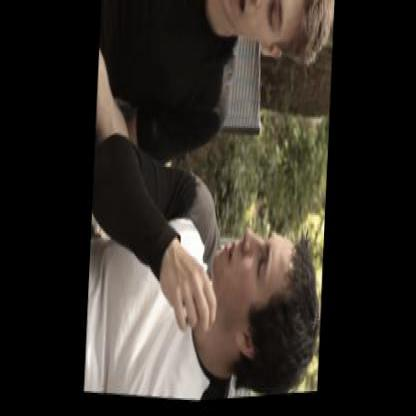knife: (101, 0, 143, 12)
